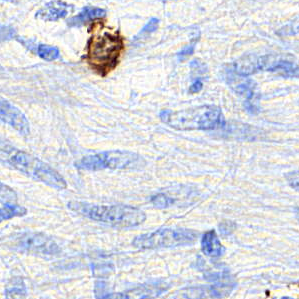Lymphocyte: (85, 22, 124, 72)
